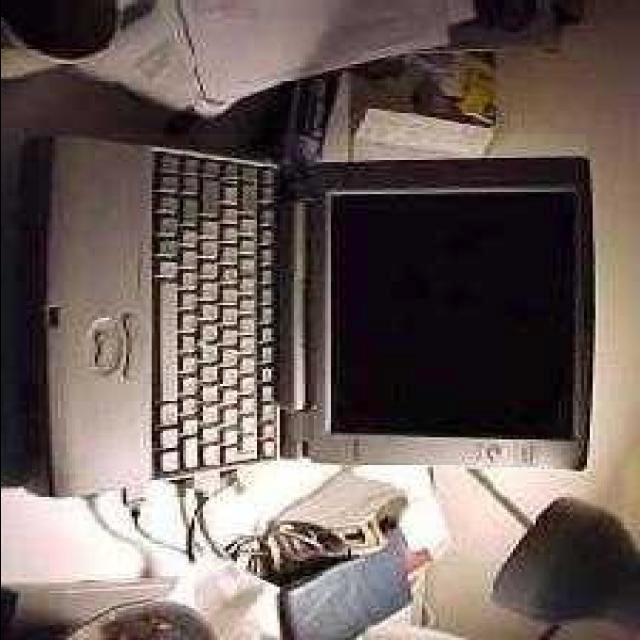-keyboard-: (39, 134, 586, 474)
